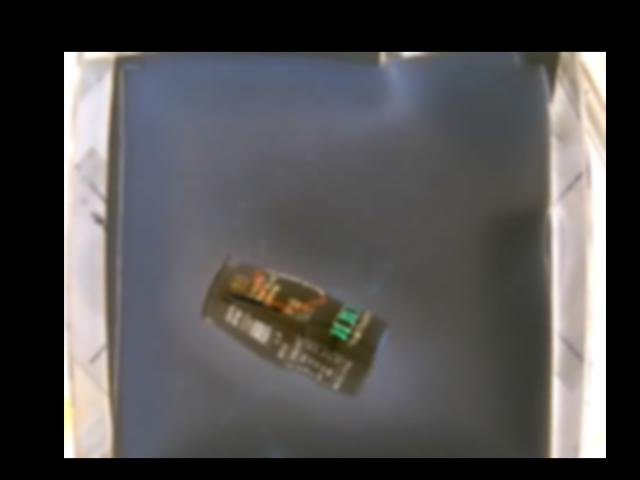Bottle: (200, 257, 389, 393)
